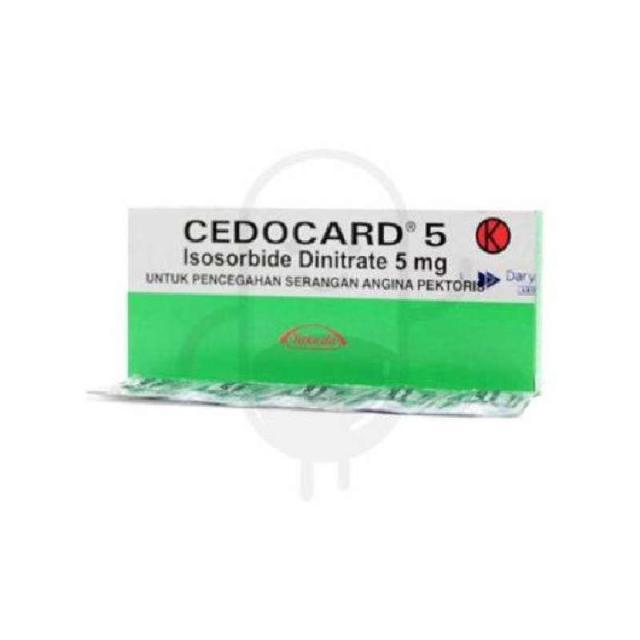drug-name: (184, 212, 448, 248)
